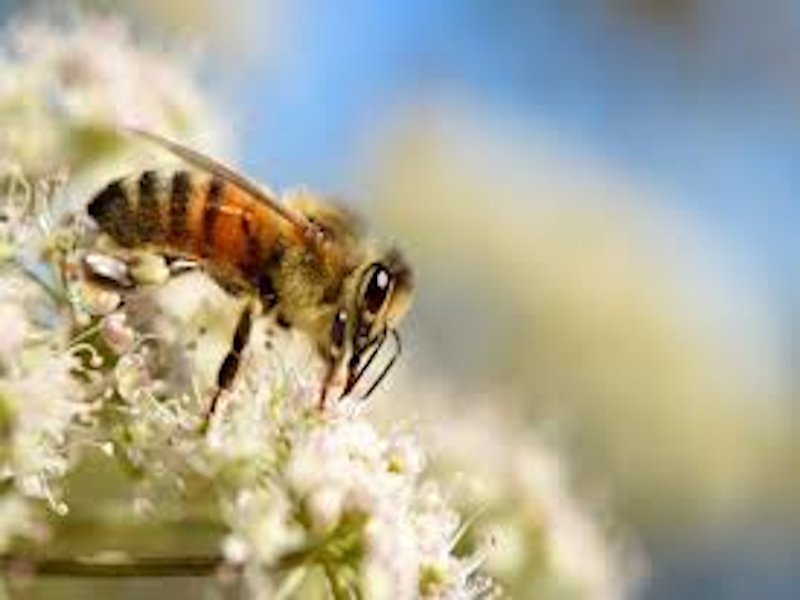abeja: (66, 111, 446, 451)
